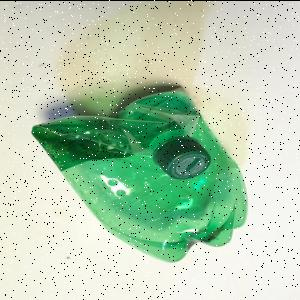Plastic-bottle: (32, 86, 250, 264)
